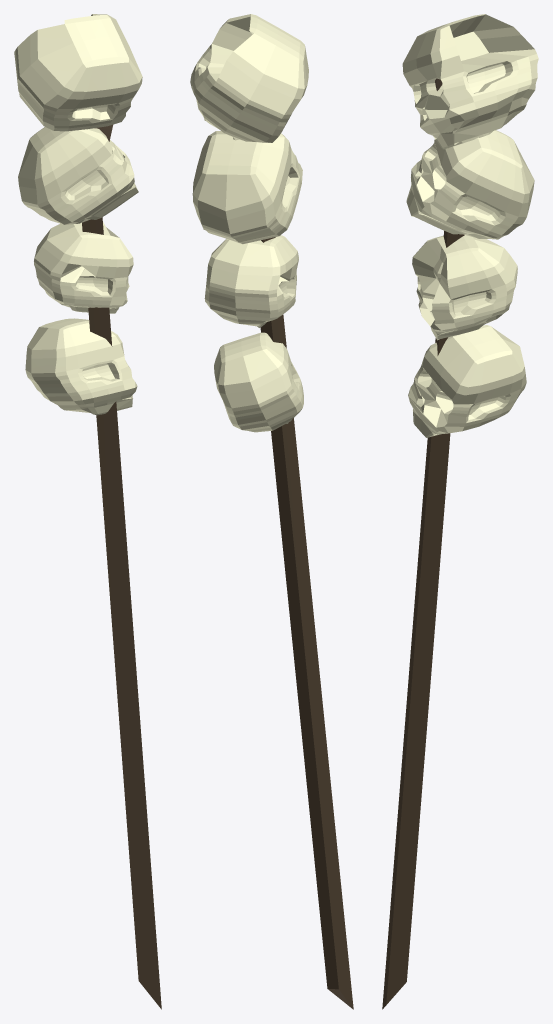
File: SkullStick2.fbx
3 renders of one model, left to right at view 1: azimuth 90°, elevation 25°; view 2: azimuth 150°, elevation 25°; view 3: azimuth 270°, elevation 25°, orthographic. The views are drawn at different scales.
Visible parts, largest first — view 1: SkullStick2; view 2: SkullStick2; view 3: SkullStick2.
Boxes of the visible parts, <box> form: SkullStick2: <box>14,14,161,1009</box>; SkullStick2: <box>190,14,353,1009</box>; SkullStick2: <box>382,14,538,1009</box>.
Bounding box in the file's own units: 20.19 × 160 × 22.19.
